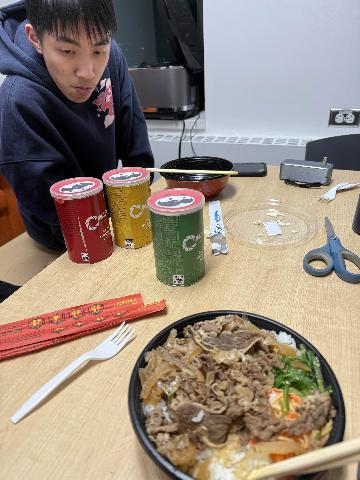Golden Can: (103, 168, 152, 248)
Green Can: (148, 189, 205, 286)
Red Can: (51, 177, 113, 263)
